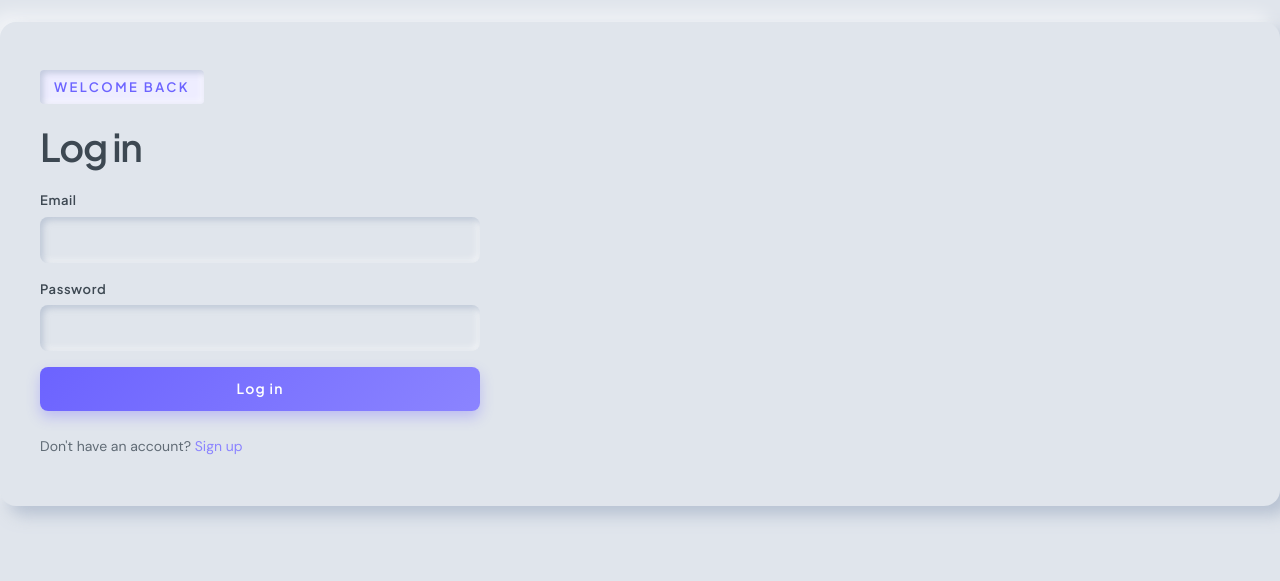
Test case: auth screens › shows plain-language server error with ref on wrong credentials
Step 1. Type "a@b.co" into the field labelled "Email" → (260, 240), box [40,217,480,263]
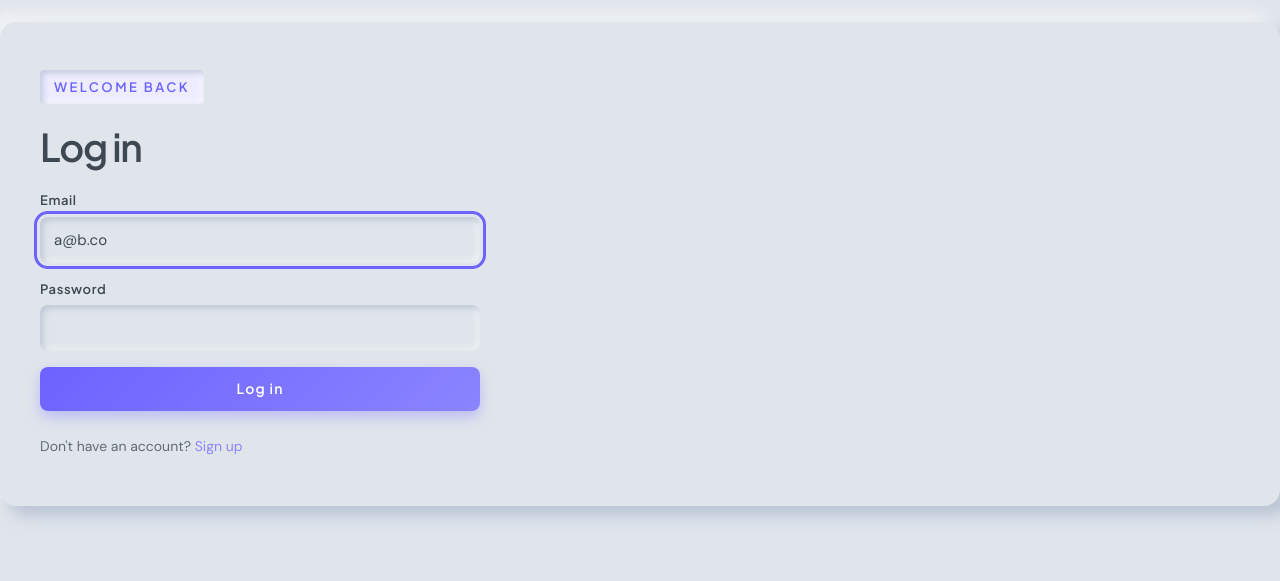
Step 2. Type "password123" into the password field labelled "Password" → (260, 328), box [40,305,480,351]
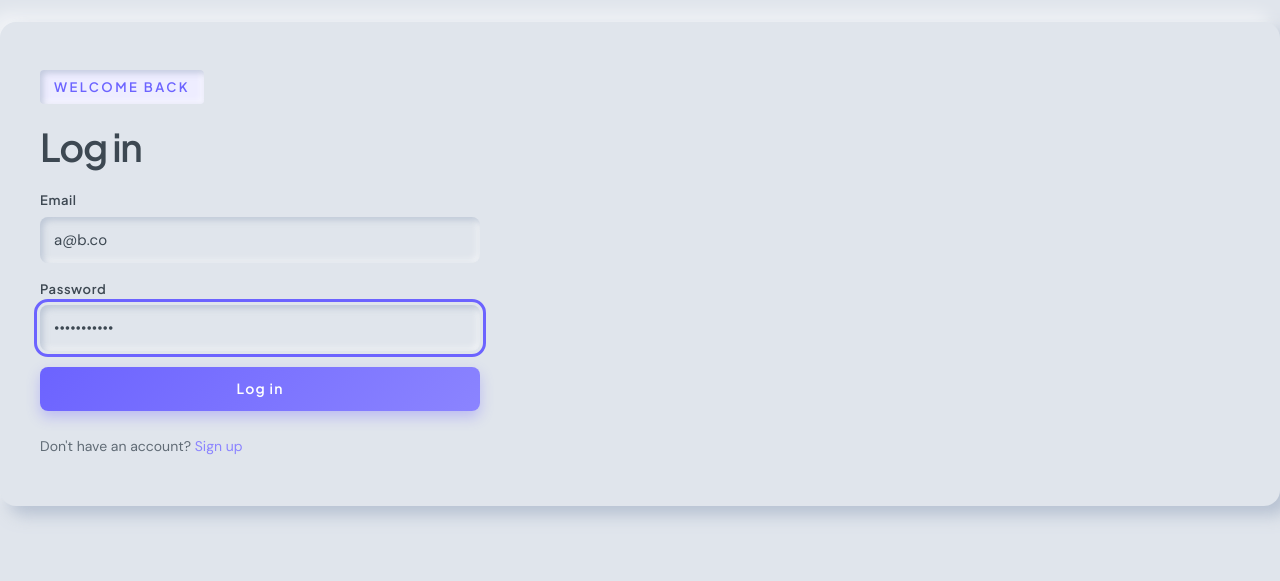
Step 3. Click the button "Log in" → click(260, 389), box [40,367,480,411]
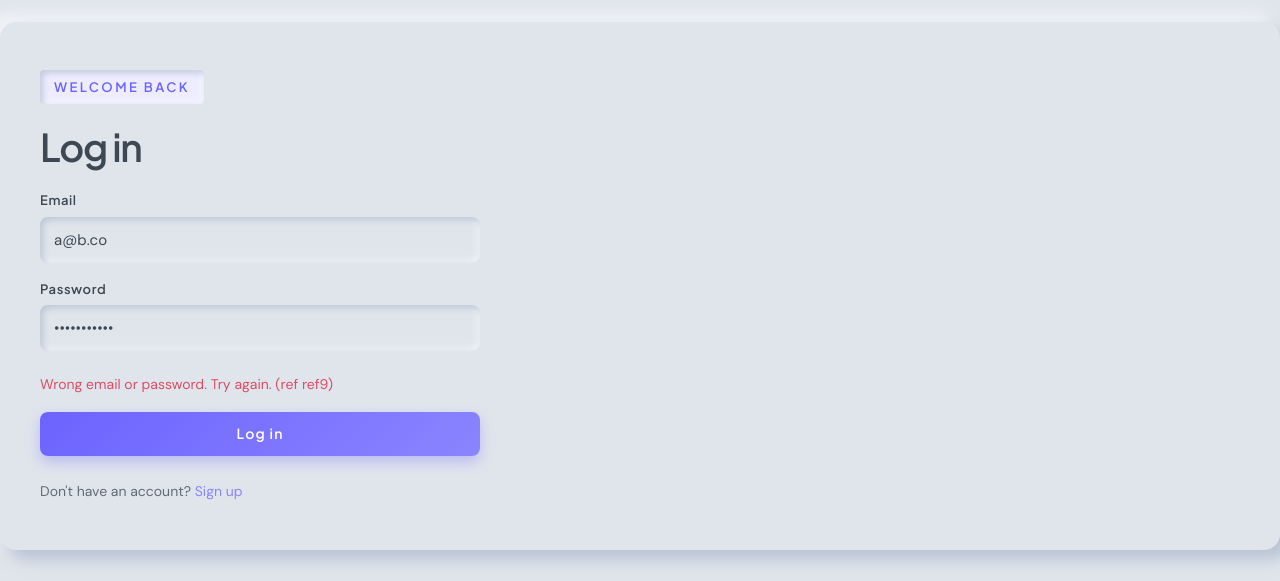
Check: the text "Wrong email or password. Try again. (ref ref9)" is shown, box [40,375,333,393]
